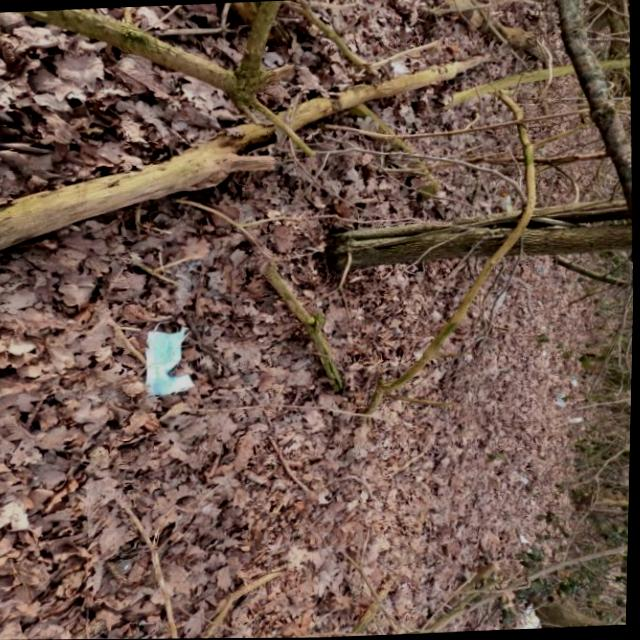Mask: (138, 313, 207, 400)
